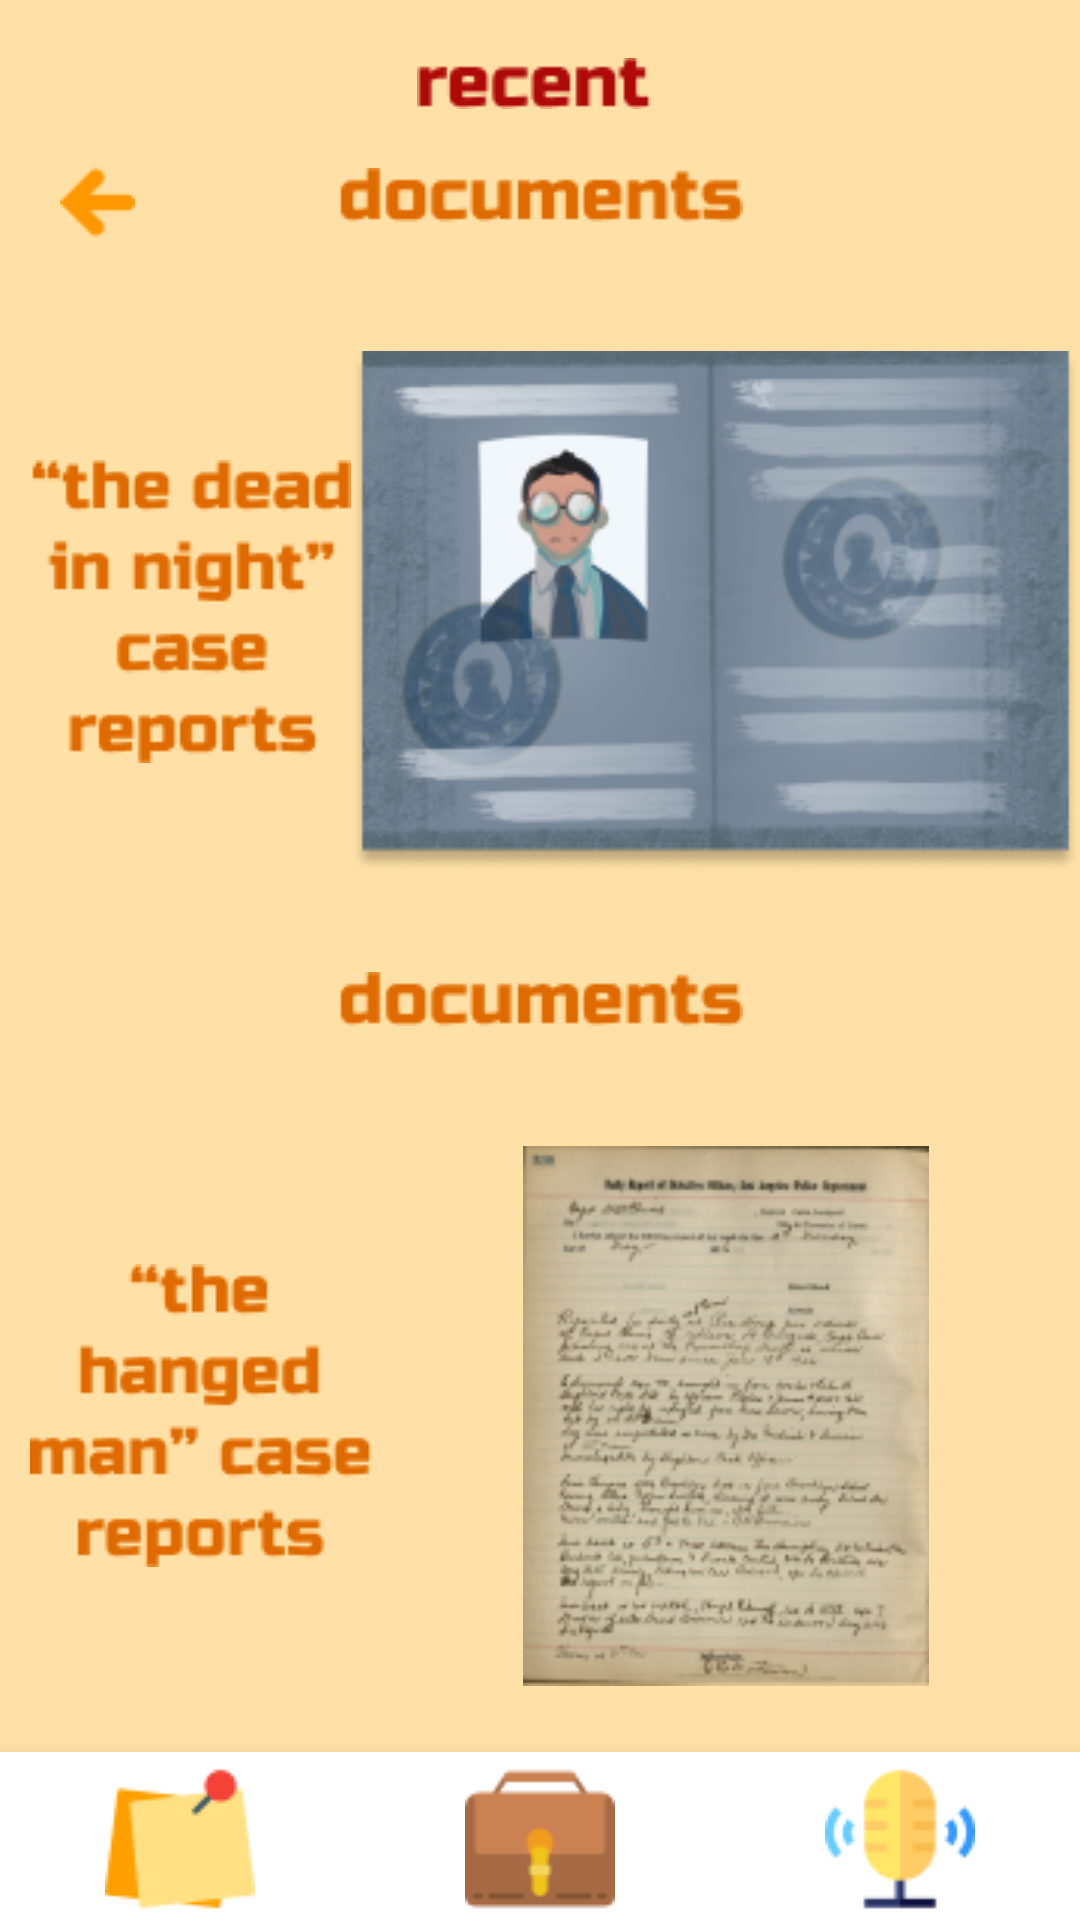

Where icons sit on this 1080*1920 app screen, as (x1, y1, x2, y2):
back: (60, 167, 135, 238)
